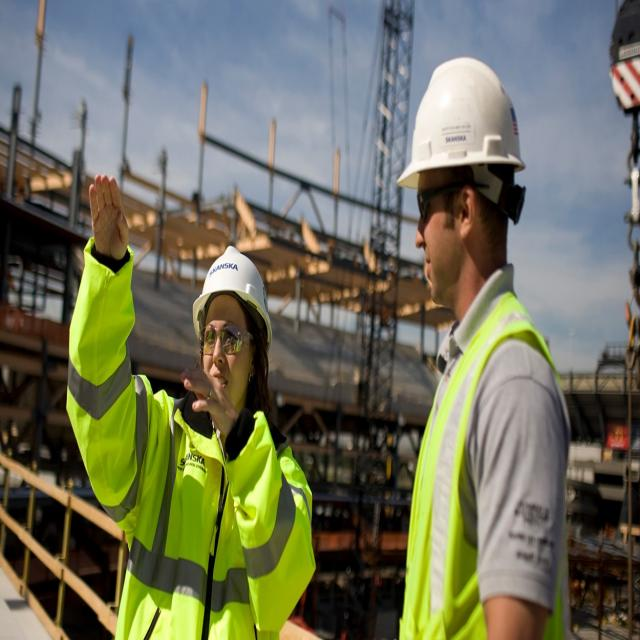Reflective-Jacket: (394, 287, 574, 640), (107, 384, 314, 640)
Safety-Helmet: (394, 49, 528, 197), (190, 240, 278, 340)
